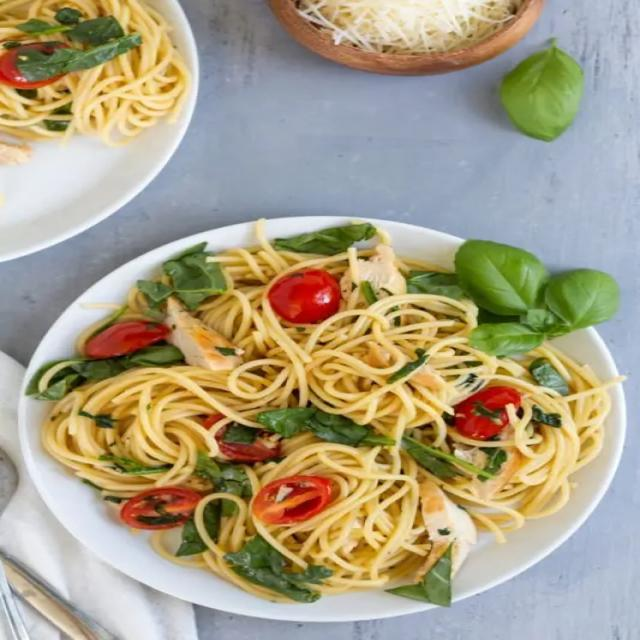cac loai rau cu: (405, 239, 622, 351), (213, 525, 348, 604), (21, 349, 195, 406), (181, 457, 260, 558), (248, 404, 407, 451), (385, 527, 465, 616), (135, 258, 252, 317), (396, 439, 511, 487), (266, 266, 355, 328), (263, 226, 393, 261)
mi ga hung que kem: (19, 217, 626, 616)
soi mi khoai lang: (249, 444, 479, 599), (217, 319, 571, 415), (428, 361, 626, 522), (46, 367, 299, 492)
thit ga: (161, 301, 262, 378), (409, 477, 505, 557), (497, 447, 539, 491)
